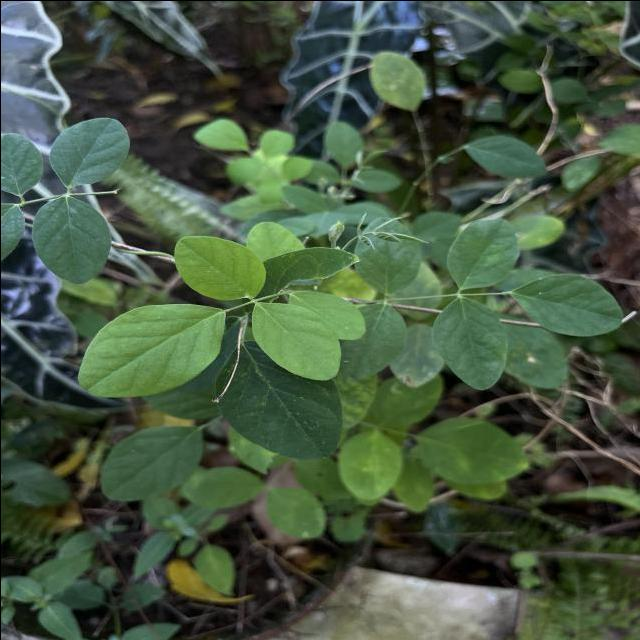Clitoria ternatea: (76, 302, 226, 398), (250, 301, 342, 381), (172, 233, 266, 300)
